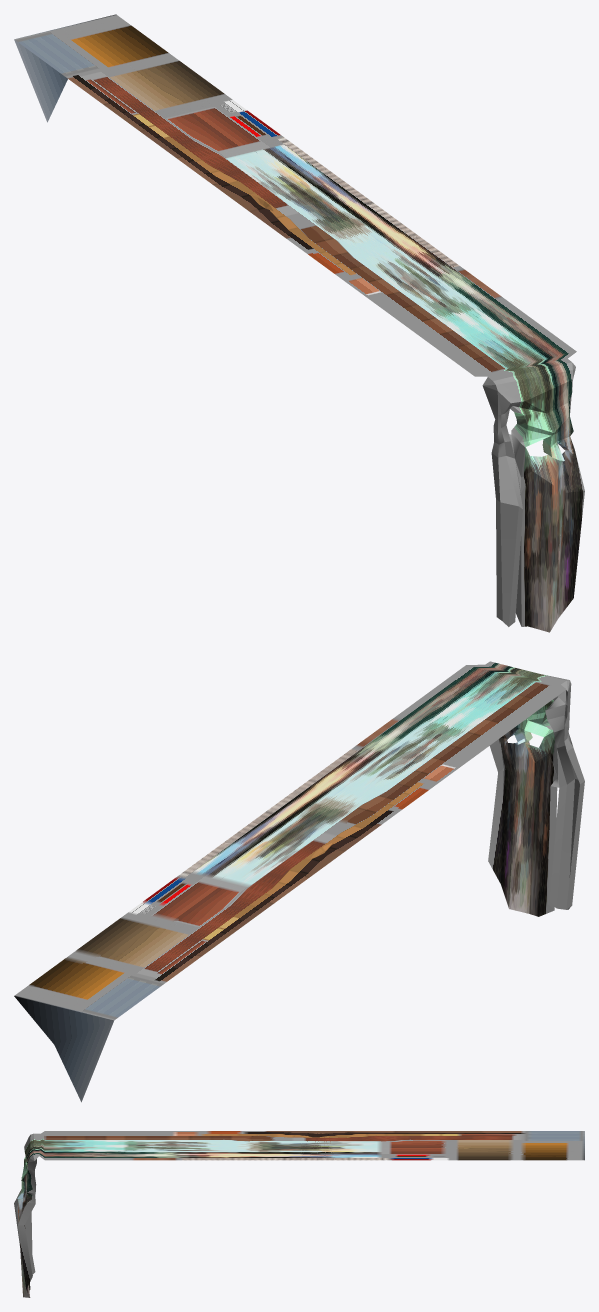
Rendered from River1.fbx.
3 renders of one model, top to bottom at view 1: azimuth 30°, elevation 25°; view 2: azimuth 150°, elevation 25°; view 3: azimuth 270°, elevation 25°, orthographic. The views are drawn at different scales.
Parts seen in each view (by area): view 1: Waterfall4; view 2: Waterfall4; view 3: Waterfall4.
Boxes of the visible parts, x1,y1,x2,y2 form: Waterfall4: (14, 14, 584, 632); Waterfall4: (14, 661, 584, 1102); Waterfall4: (14, 1131, 584, 1297).
Size of the model in its own units: 857 by 2054 by 7080.
Materials: 1 (1 with a texture image).
